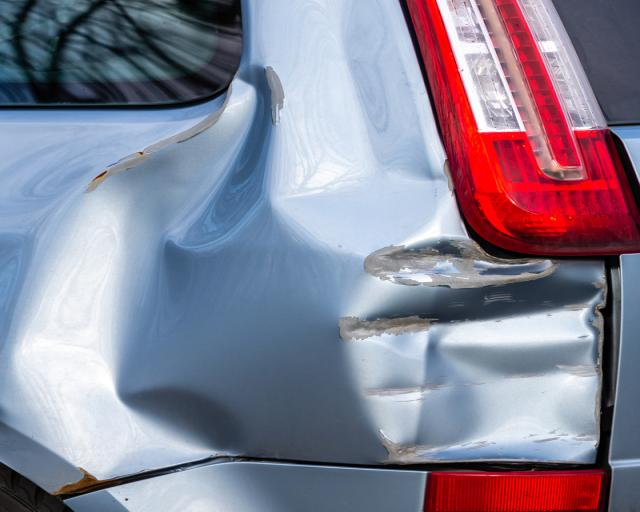dent: (2, 0, 609, 471)
